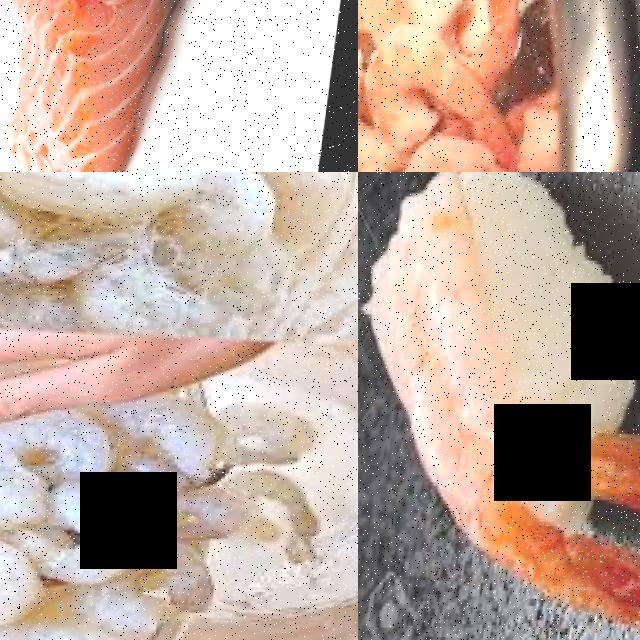salmon: (0, 0, 283, 172)
shrimp: (383, 172, 492, 336), (46, 481, 170, 583), (368, 24, 477, 131), (0, 172, 214, 220), (0, 424, 120, 492), (0, 530, 58, 633), (402, 136, 525, 172)
